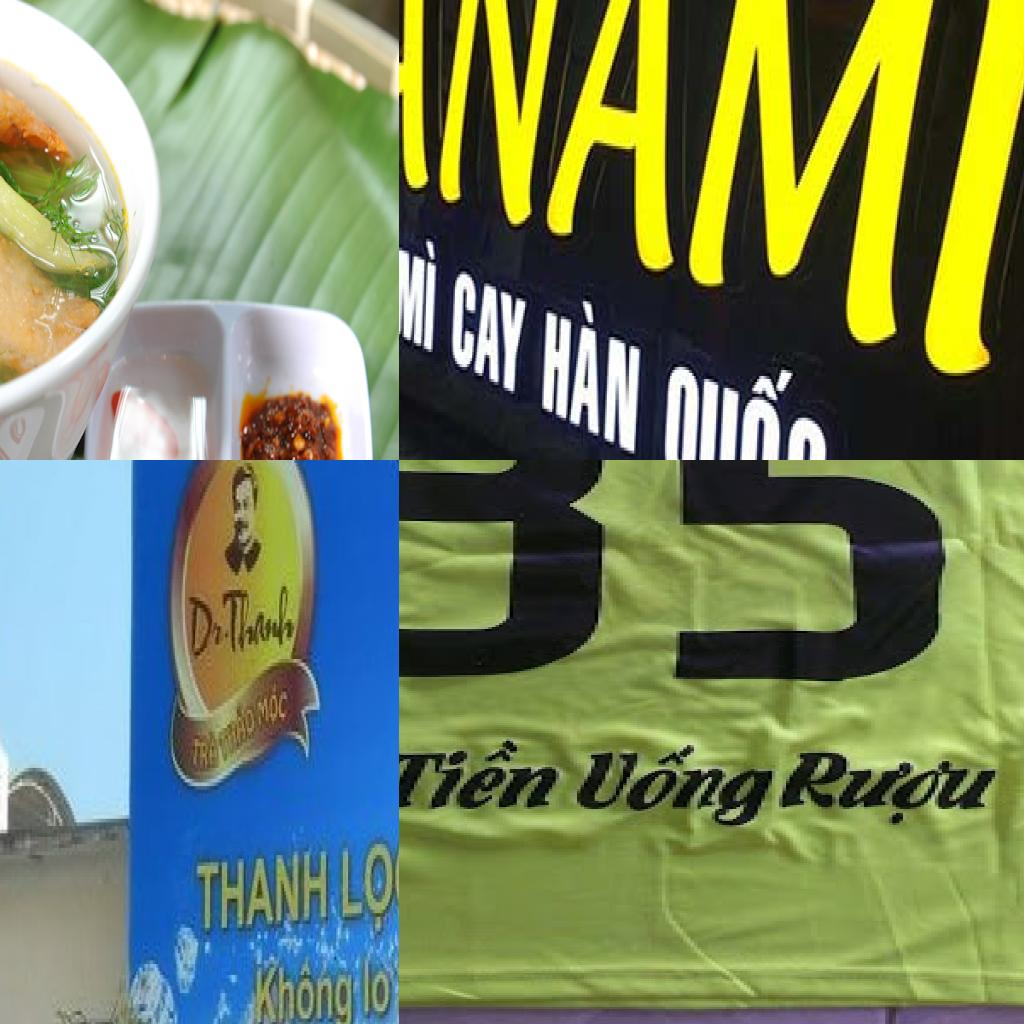text: (399, 0, 1024, 420), (399, 460, 963, 691), (654, 322, 839, 460), (563, 741, 793, 835), (540, 274, 646, 460), (399, 737, 583, 815), (193, 841, 331, 942), (448, 262, 532, 403), (187, 579, 299, 659), (248, 957, 356, 1024), (338, 837, 399, 946), (399, 226, 446, 361), (215, 692, 259, 764), (254, 673, 291, 739), (358, 953, 391, 1024), (190, 724, 222, 776)
